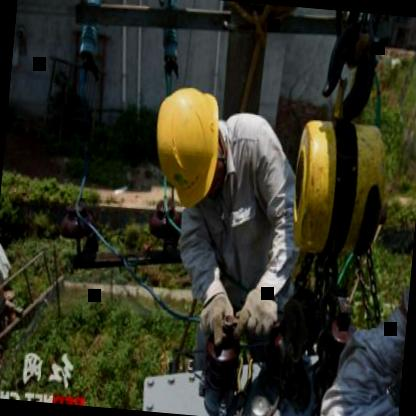helmet: (146, 79, 232, 212)
